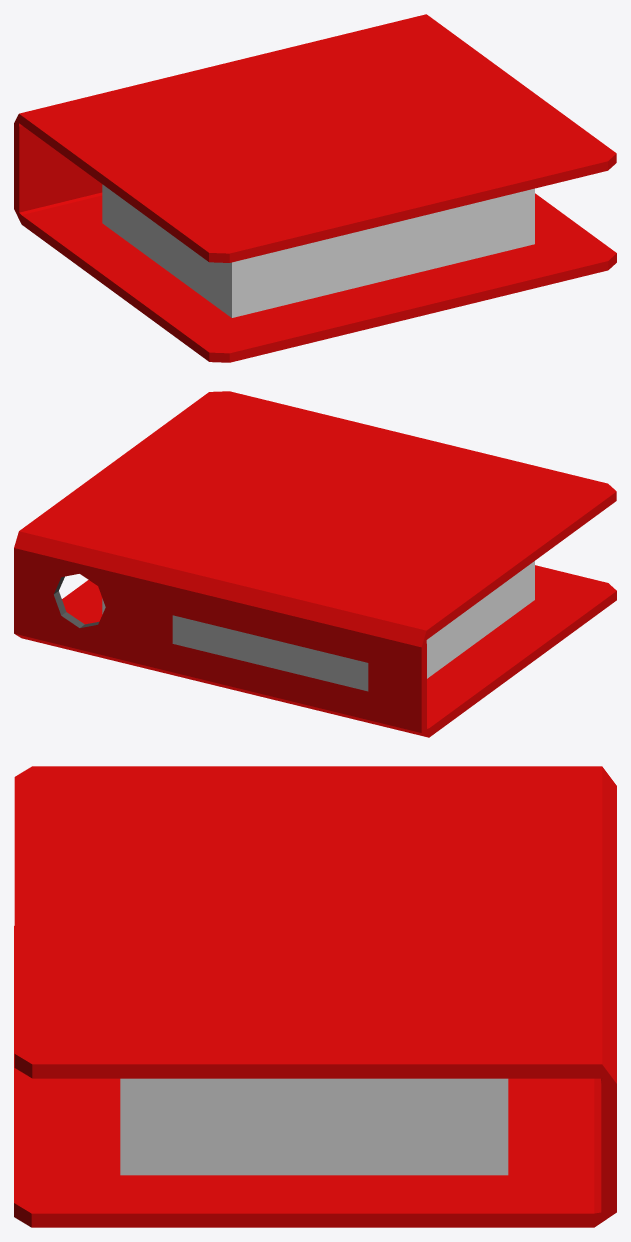
The model's file is Mappe_Rød.fbx.
3 views of the same model, one above another, from view 1: azimuth 30°, elevation 25°; view 2: azimuth 150°, elevation 25°; view 3: azimuth 270°, elevation 25° (orthographic). The views are drawn at different scales.
Visible parts, largest first — view 1: Mappe, Mappestak; view 2: Mappe, Mappestak; view 3: Mappe, Mappestak.
Part boxes in pixels (x1,y1,x2,y2): Mappe: [14, 14, 616, 362]; Mappestak: [102, 184, 534, 317]; Mappe: [14, 391, 616, 737]; Mappestak: [102, 561, 534, 678]; Mappe: [14, 766, 616, 1227]; Mappestak: [120, 1078, 508, 1175].
Bounding box in the file's own units: 141 × 35.95 × 120.
